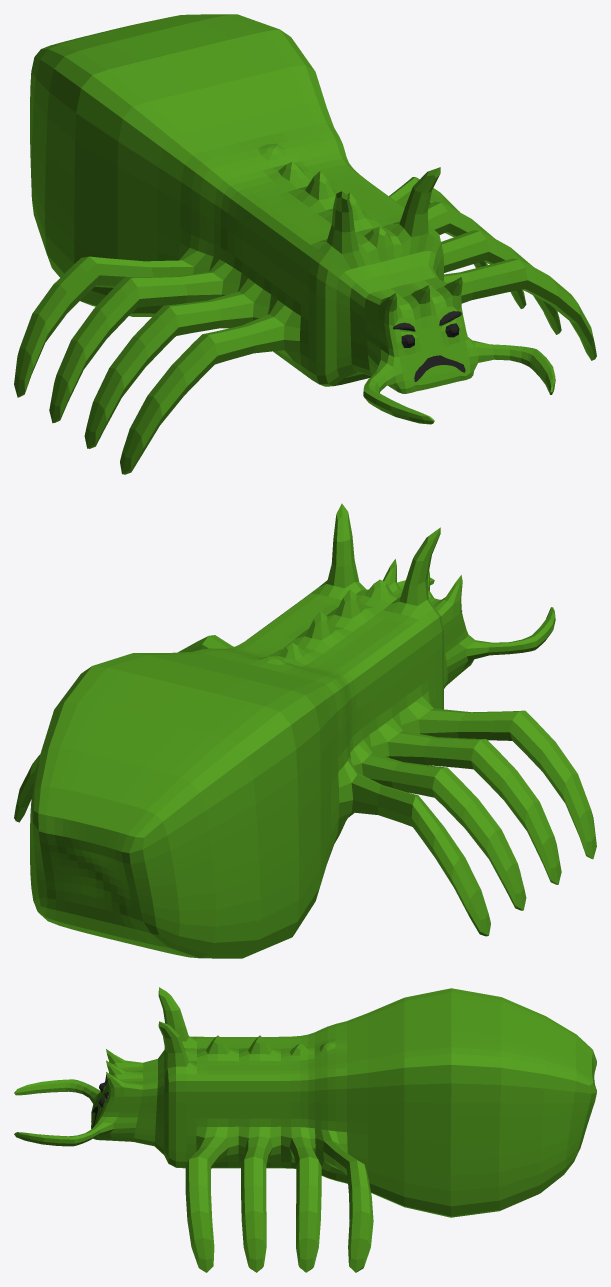
The model's file is Bug_enemy2.fbx.
The picture shows the model from 3 angles, top to bottom: view 1: azimuth 30°, elevation 25°; view 2: azimuth 150°, elevation 25°; view 3: azimuth 270°, elevation 25°; orthographic projection. The views are drawn at different scales.
Parts seen in each view (by area): view 1: Cube; view 2: Cube; view 3: Cube.
Boxes of the visible parts, box(x1,y1,x2,y2) form: Cube: box(14, 14, 596, 474); Cube: box(14, 503, 596, 958); Cube: box(14, 987, 596, 1272).
Bounding box in the file's own units: 738 × 393 × 1110.
